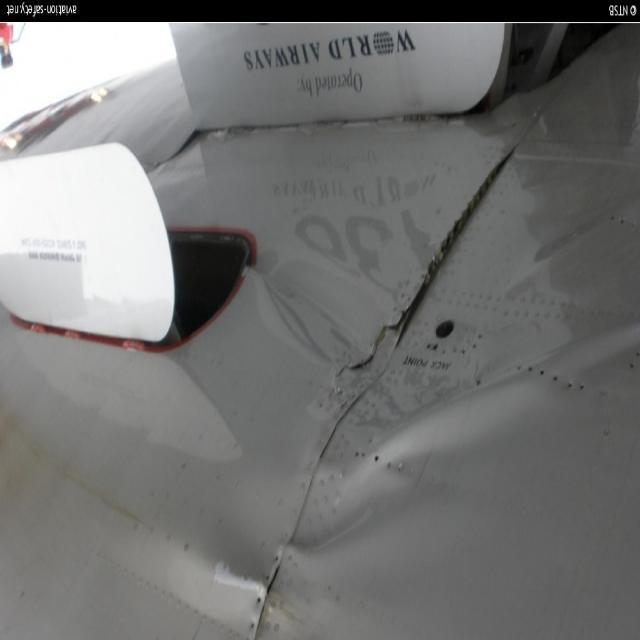crack: (330, 307, 410, 390)
dent: (291, 319, 640, 568)
